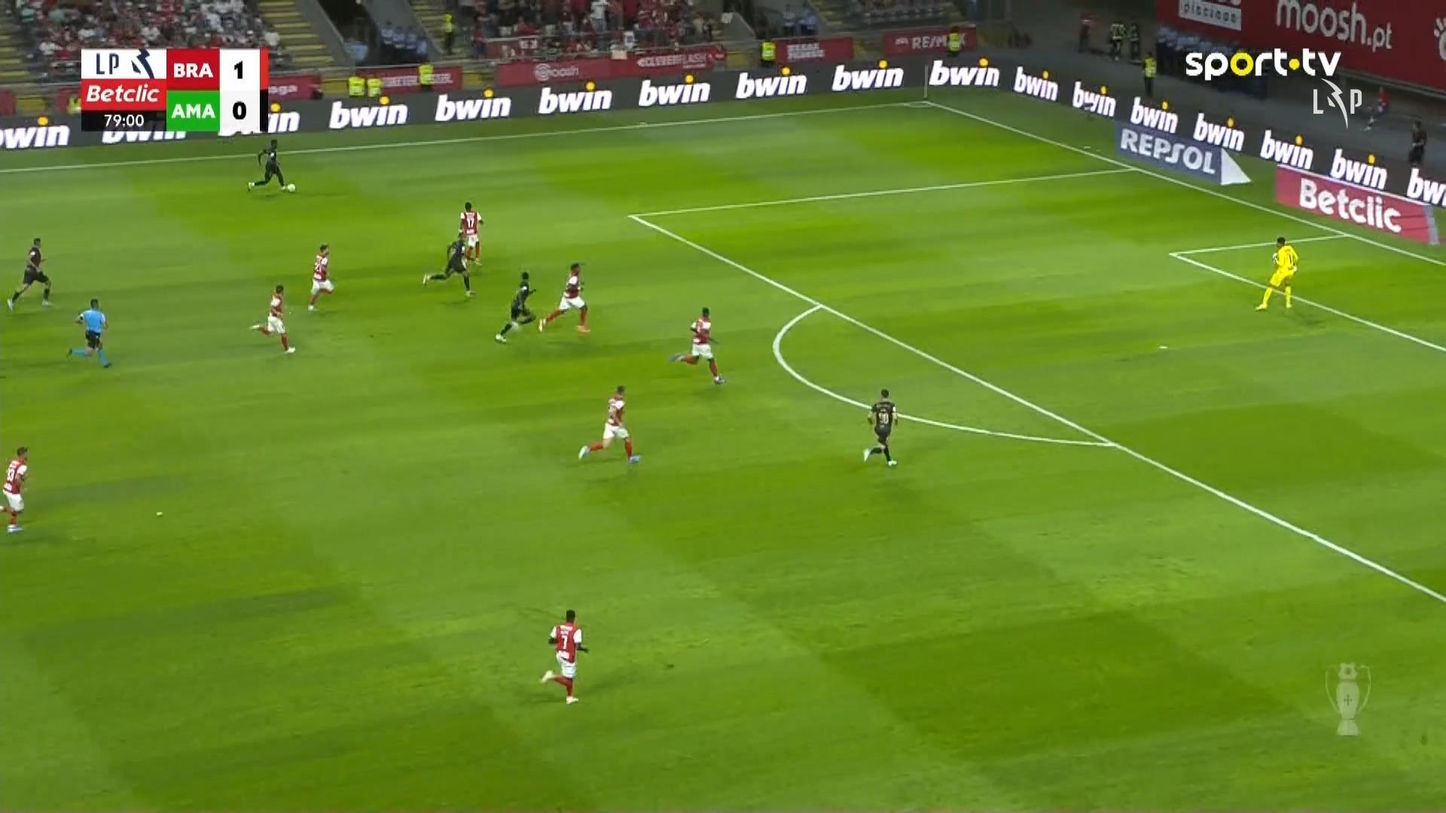ball: (285, 183, 295, 192)
goalkeeper: (1254, 235, 1298, 310)
player: (577, 384, 641, 464), (538, 608, 588, 704), (669, 306, 726, 385), (537, 262, 590, 333), (421, 230, 476, 297), (5, 236, 53, 312), (249, 283, 295, 354), (493, 271, 538, 343), (862, 388, 898, 467), (246, 138, 295, 193), (0, 445, 29, 532), (307, 242, 334, 312), (457, 200, 484, 266)
referee: (65, 297, 111, 368)
